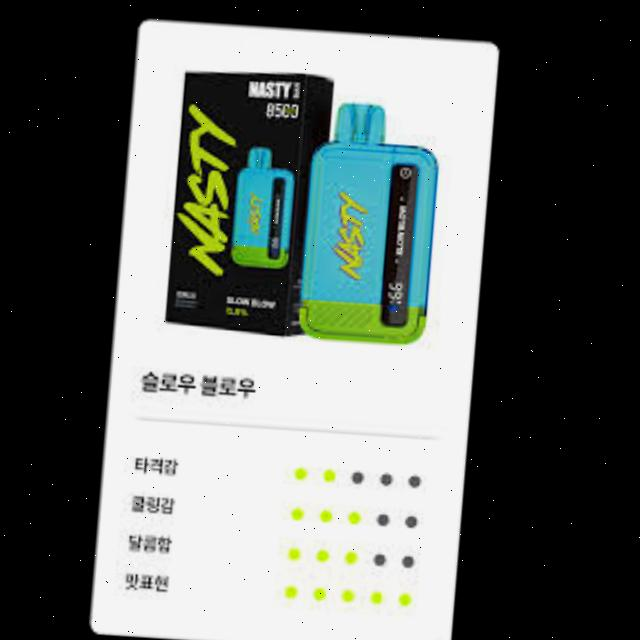vape: (303, 97, 451, 344), (236, 144, 298, 264)
